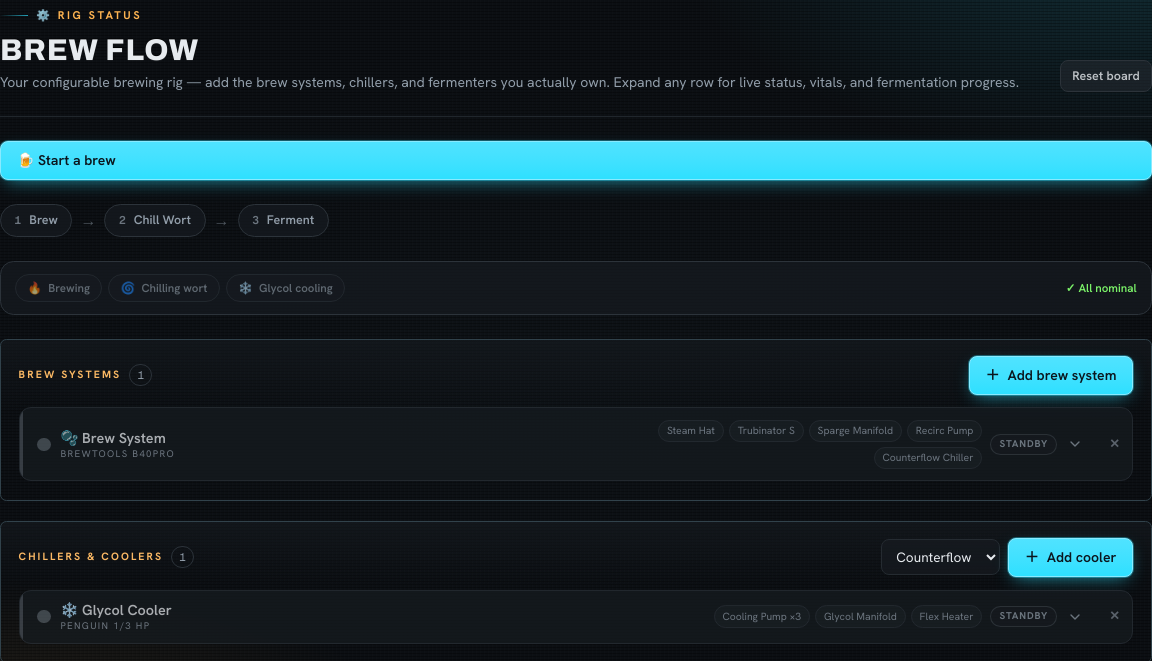
Test: EquipmentRow — expand for system / cooler / fermenter › expands a cooler row and exposes its kind select
Click the button "Penguin 1/3 HP": click(127, 610) 20,591 -> 1096,643
(page scrolled)
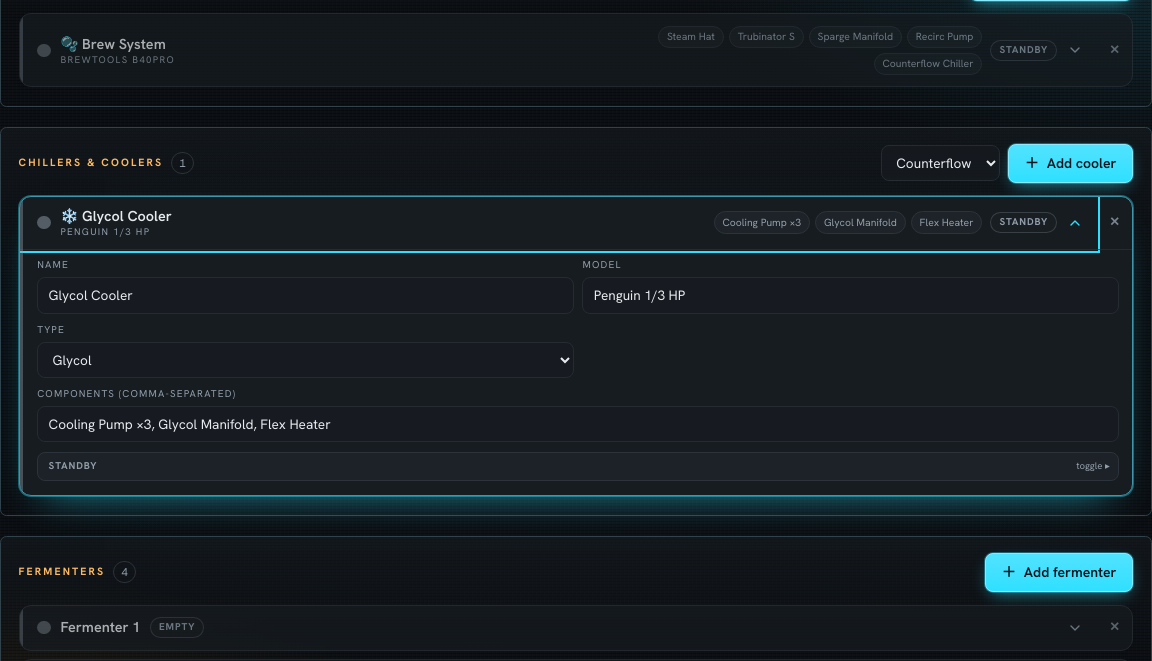
Expected: the element named "Glycol Cooler settings" is shown, 20,248 -> 1132,495
Expected: the dropdown named "Glycol Cooler type" is shown, 37,342 -> 574,378
